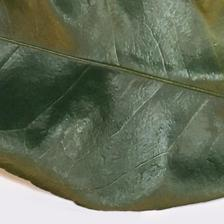healthy: (3, 0, 224, 175)
